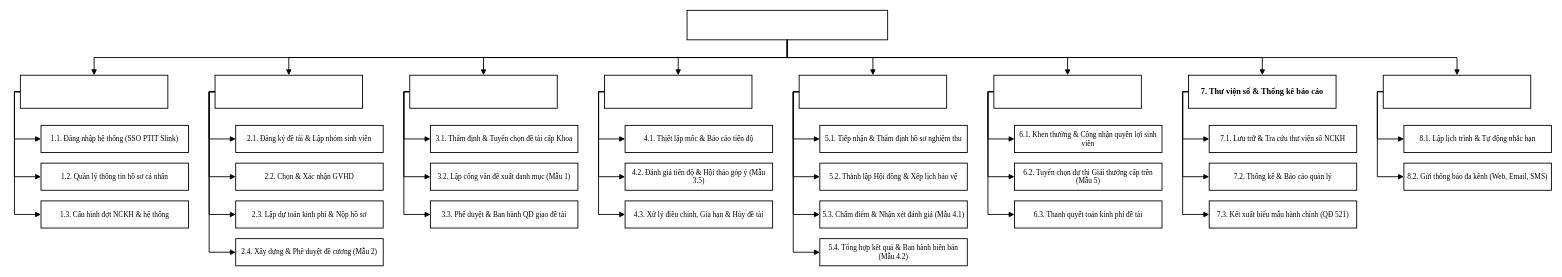
The diagram is 1562 pixels wide and 277 high, and some of its shapes have lost their labels. Here are the shapes that lost their labels. From the top down, the centre of each, then its label:
pixel 787 25: Quản lý Đề tài NCKH Sinh viên (SRMS)
pixel 94 91: 1. Đăng nhập & Quản lý tài khoản
pixel 288 91: 2. Đăng ký đề tài & Quản lý nhóm
pixel 483 91: 3. Xét duyệt & Ban hành Quyết định
pixel 678 91: 4. Giám sát tiến độ thực hiện
pixel 872 91: 5. Nghiệm thu & Chấm điểm
pixel 1067 91: 6. Khen thưởng & Quyết toán kinh phí
pixel 1457 91: 8. Thông báo & Nhắc việc
